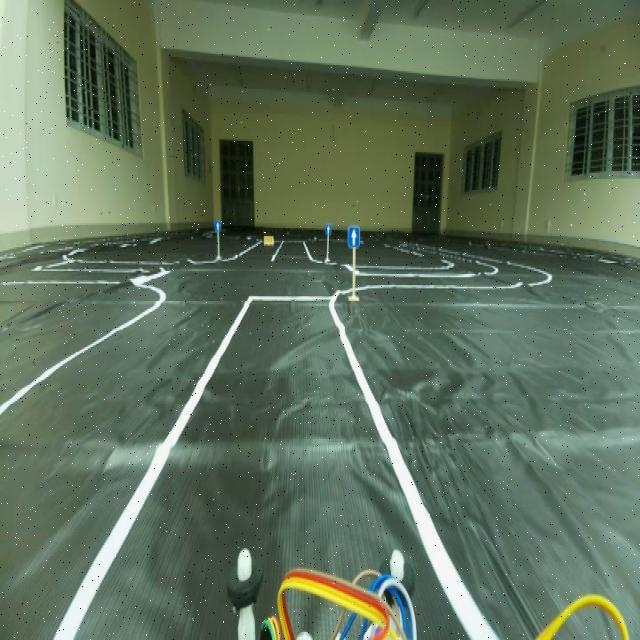onewayroad: (345, 221, 363, 251), (322, 220, 332, 233), (214, 220, 222, 231)
roadblock: (263, 228, 276, 250)
